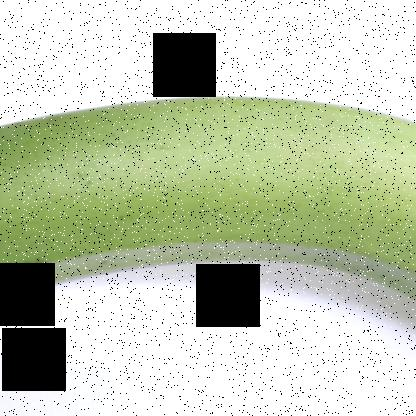freshunripe: (1, 56, 415, 325)
